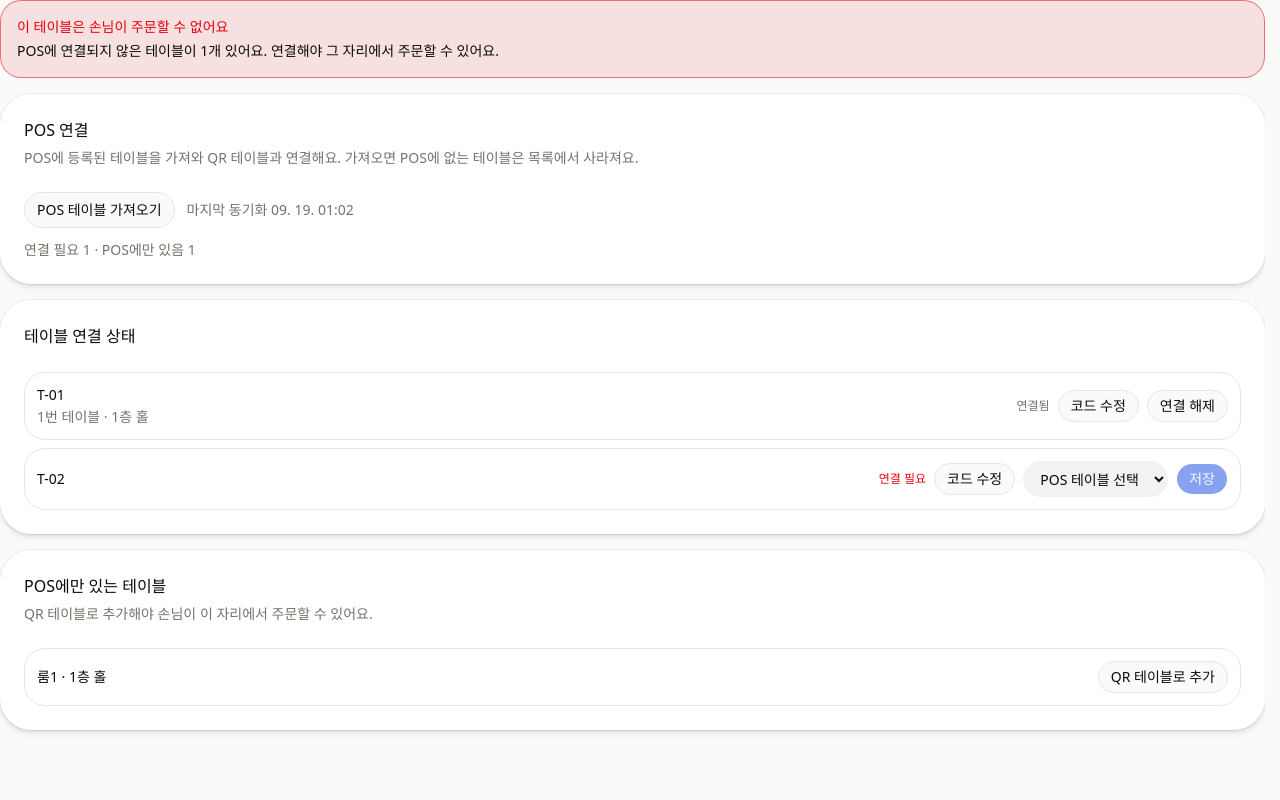
it: PosTableLinkSection › opens the QR code input instead of adding right away
Click the button "QR 테이블로 추가".
click(1163, 677)  # box [1098,661,1228,693]
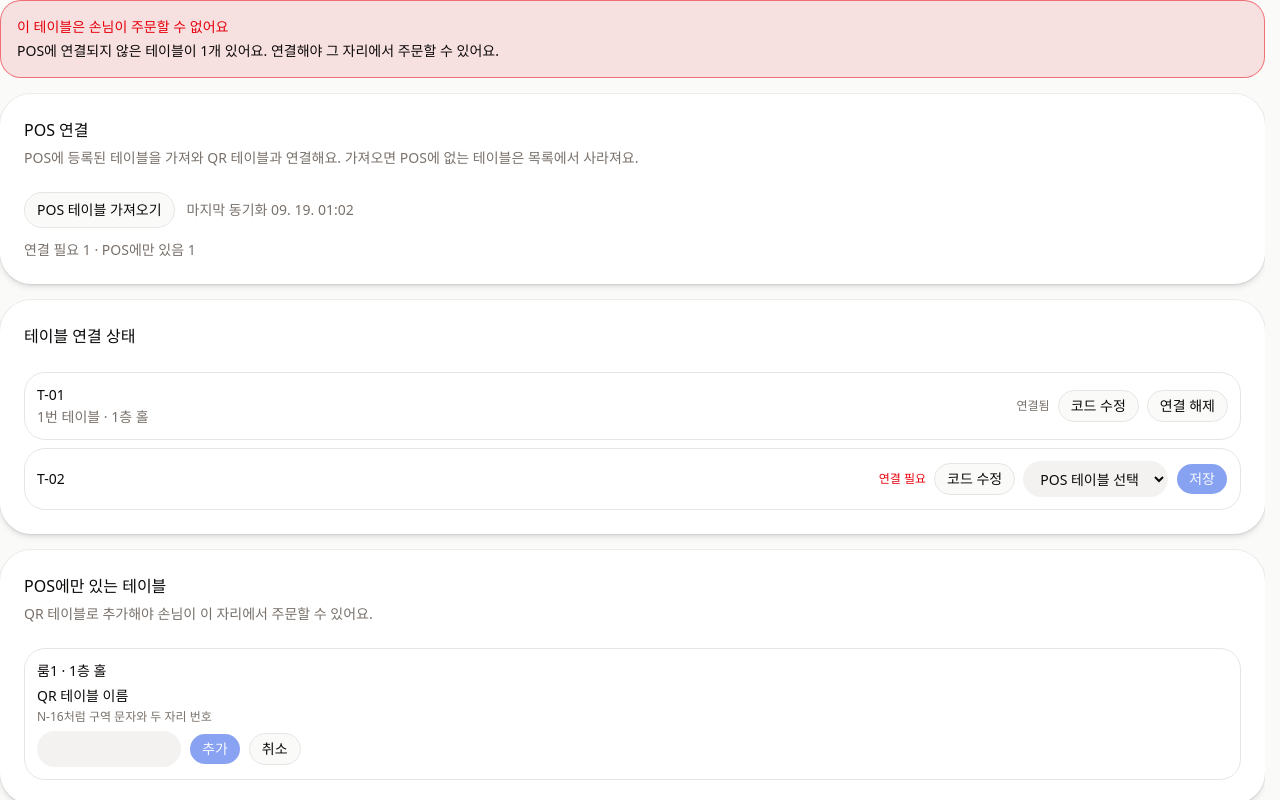
Expected: the text "N-16처럼 구역 문자와 두 자리 번호" is shown, [37,708,212,725]
